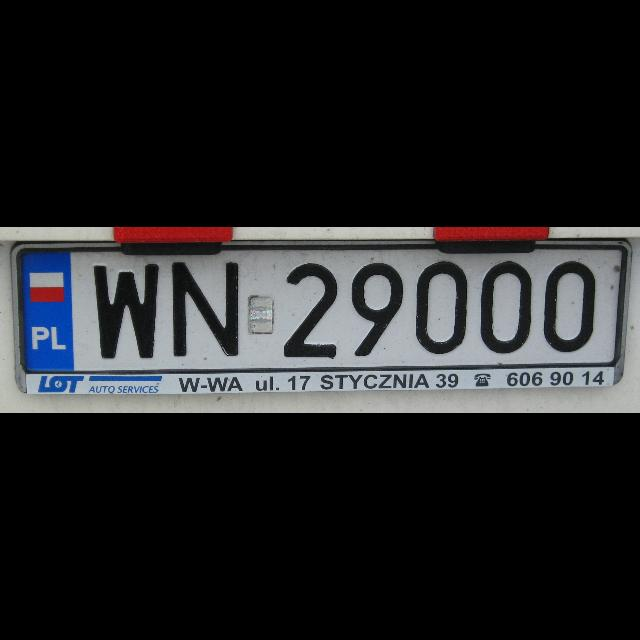pl_license_plate: (24, 251, 618, 371)
